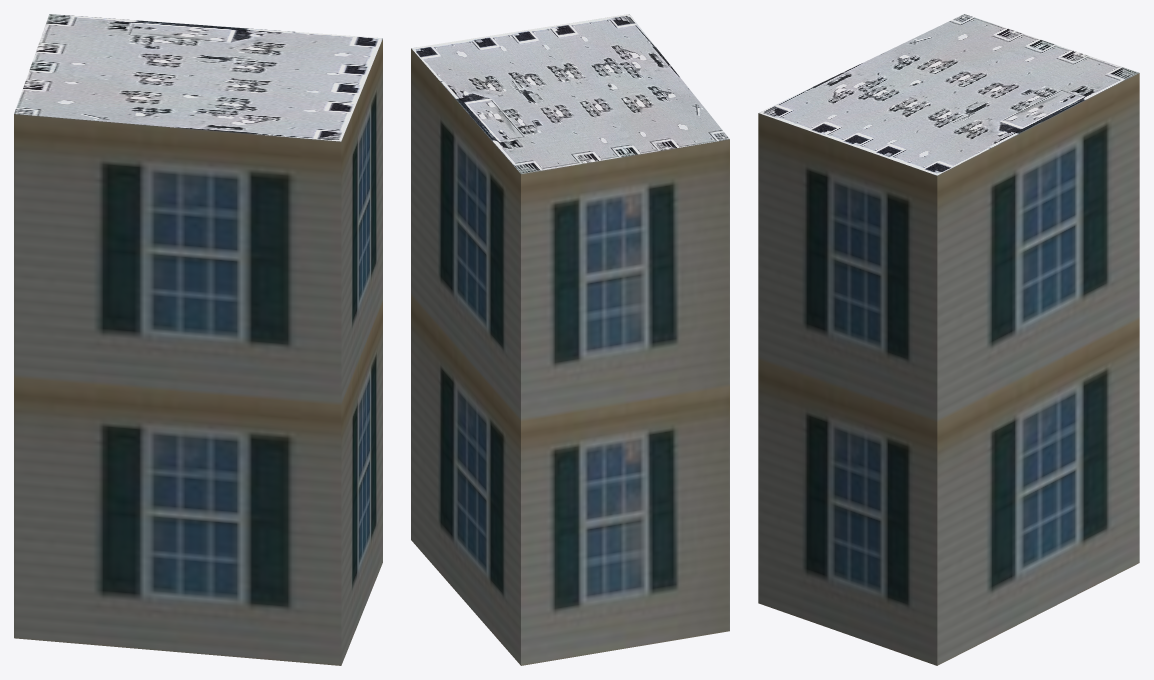
The model's file is ResTex__1343.fbx.
3 renders of one model, left to right at view 1: azimuth 30°, elevation 25°; view 2: azimuth 150°, elevation 25°; view 3: azimuth 270°, elevation 25°, orthographic. The views are drawn at different scales.
Parts seen in each view (by area): view 1: CityEngineMaterial_7_m, CityEngineMaterial_8_m; view 2: CityEngineMaterial_7_m, CityEngineMaterial_8_m; view 3: CityEngineMaterial_7_m, CityEngineMaterial_8_m.
Part boxes in pixels (x1=…): CityEngineMaterial_7_m: x1=14, y1=39, x2=382, y2=665; CityEngineMaterial_8_m: x1=14, y1=14, x2=382, y2=141; CityEngineMaterial_7_m: x1=411, y1=48, x2=729, y2=665; CityEngineMaterial_8_m: x1=411, y1=14, x2=729, y2=173; CityEngineMaterial_7_m: x1=758, y1=73, x2=1139, y2=665; CityEngineMaterial_8_m: x1=759, y1=14, x2=1139, y2=175.
Bounding box in the file's own units: 4.24 × 6 × 4.23.
Materials: 2 (2 with a texture image).
